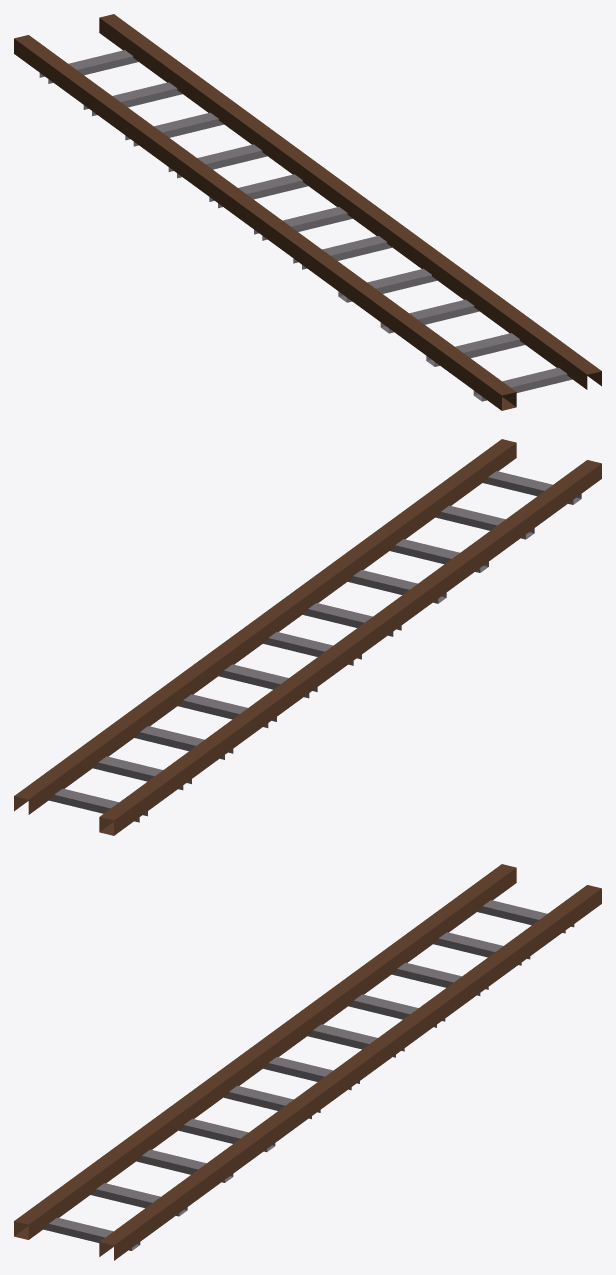
File: Railroad.fbx
The picture shows the model from 3 angles, top to bottom: view 1: azimuth 30°, elevation 25°; view 2: azimuth 150°, elevation 25°; view 3: azimuth 330°, elevation 25°; orthographic projection.
Visible parts, largest first — view 1: Cube; view 2: Cube; view 3: Cube.
Boxes of the visible parts, <box> form: Cube: <box>14,14,601,410</box>; Cube: <box>14,439,601,835</box>; Cube: <box>14,864,601,1260</box>.
Bounding box in the file's own units: 2826 × 562 × 23876.
1 material, 1 textured.
